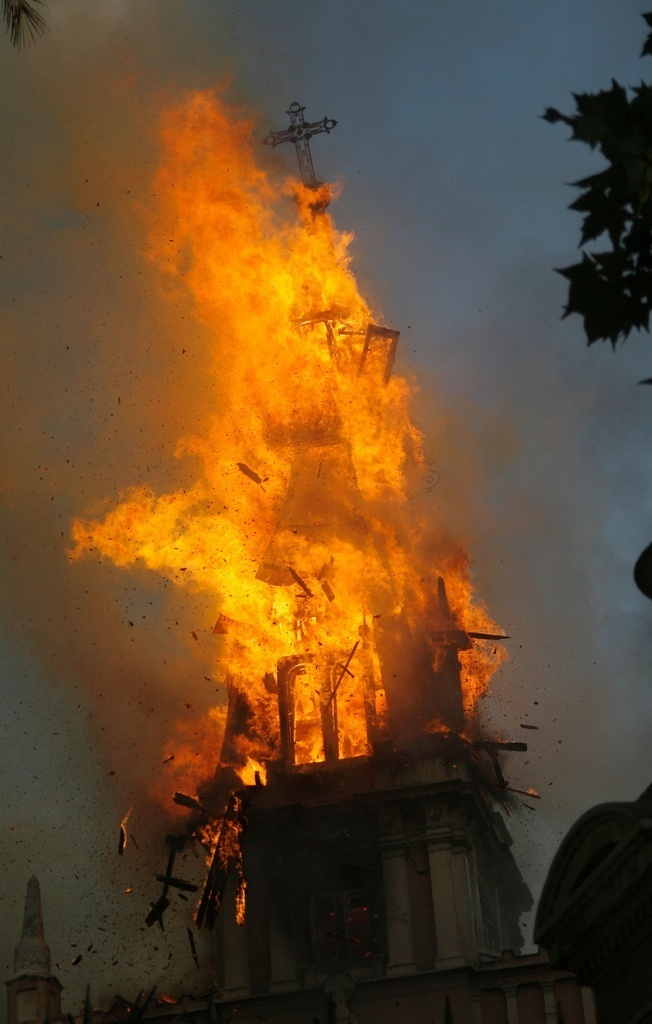fire: (55, 74, 529, 792)
